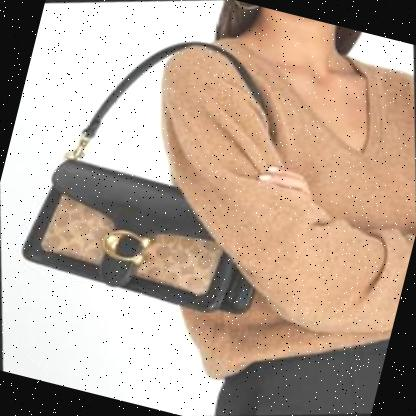bag: (13, 6, 317, 327)
